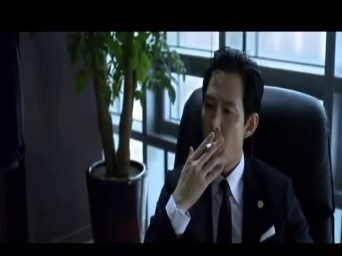smoke: (204, 141, 216, 150)
